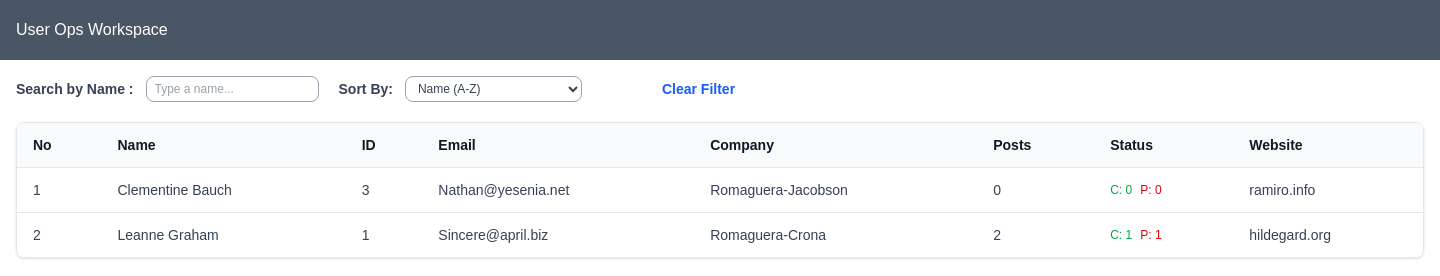
Test case: UserList Task Alignment Tests › should filter the list based on search input
Type "Clementine" into the field with placeholder "Type a name...".
click(232, 89); type("Clementine")  # box top-left (146, 76), bottom-right (318, 102)
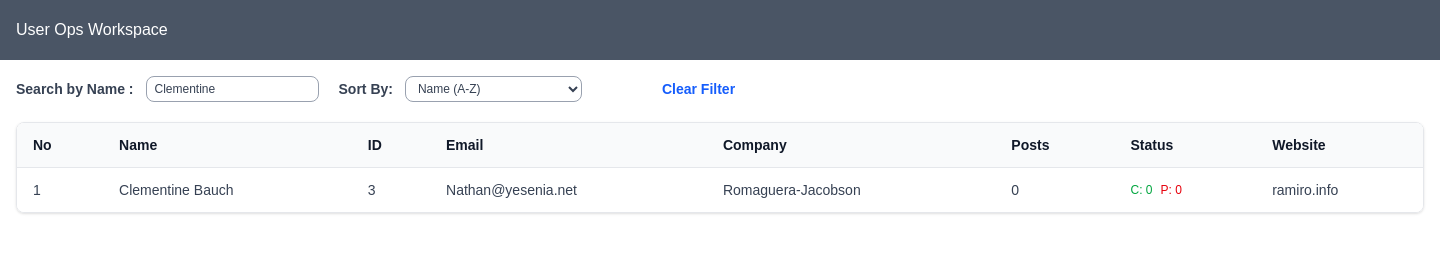
expect the text "Clementine Bauch" is shown: met, box top-left (103, 168), bottom-right (352, 212)
expect the text "Leanne Graham" is gone: met
